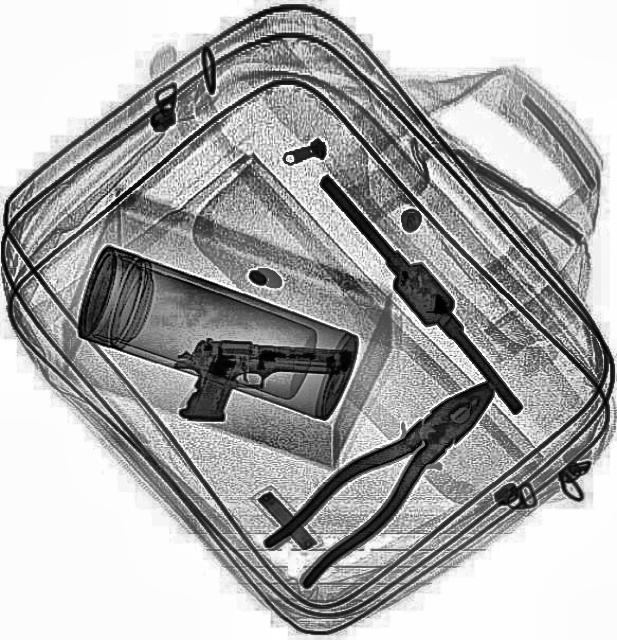Gun: (167, 335, 353, 427)
Pliers: (256, 359, 516, 591)
